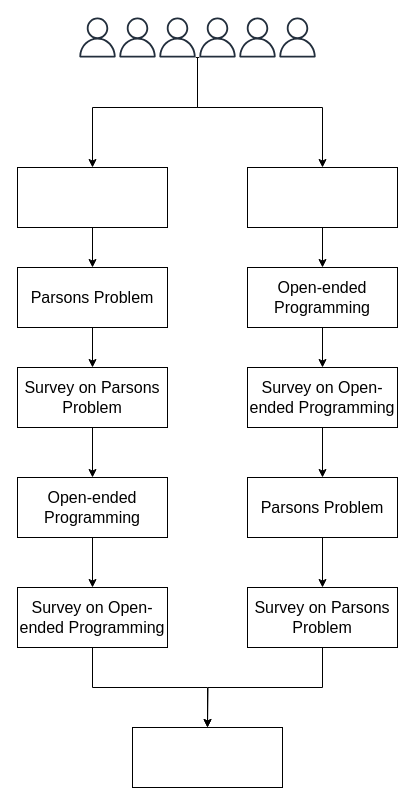
Some shapes in this 415 by 805 pixel diagram are drawn without their labels. The shapes that lost their labels are listed below. From the top down, each one's centre as x and y in pixels, then its label:
pixel 92 197: Group A
pixel 322 197: Group B
pixel 207 757: Survey on Both types of Exercise
